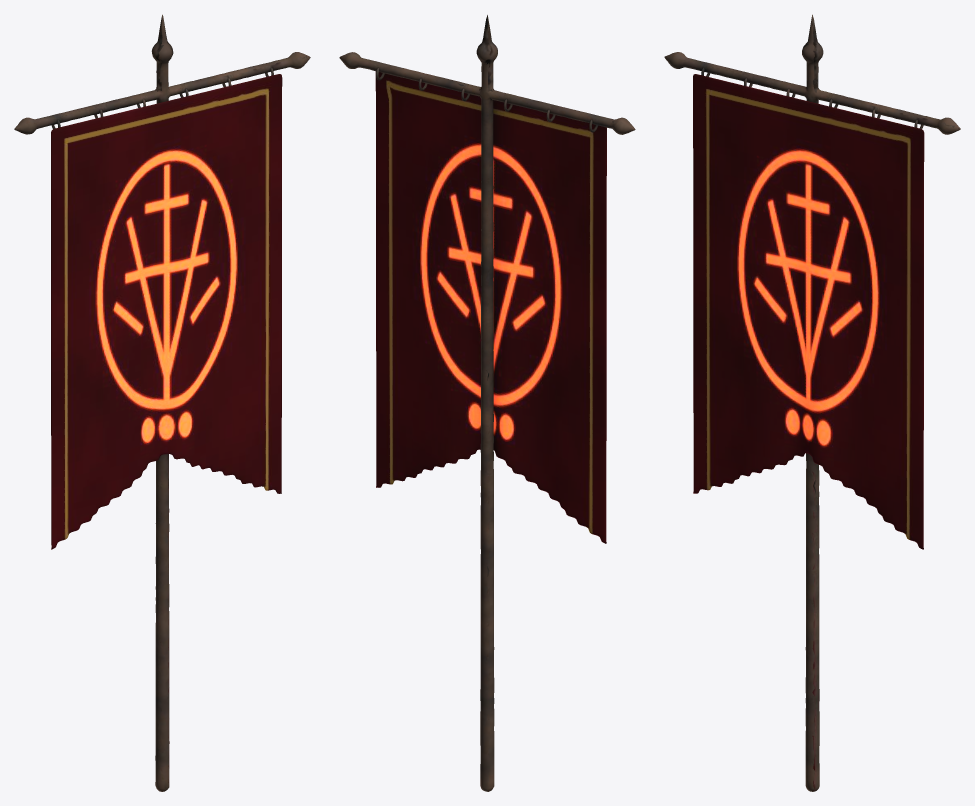
Rendered from sigil_banner.glb.
3 renders of one model, left to right at view 1: azimuth 30°, elevation 25°; view 2: azimuth 150°, elevation 25°; view 3: azimuth 330°, elevation 25°, orthographic.
Visible parts, largest first — view 1: Banner, Banner_Pole; view 2: Banner, Banner_Pole; view 3: Banner, Banner_Pole.
Boxes of the visible parts, box(x1,y1,x2,y2) form: Banner: box(51, 74, 282, 549); Banner_Pole: box(14, 14, 310, 791); Banner: box(375, 71, 606, 543); Banner_Pole: box(339, 15, 635, 791); Banner: box(693, 74, 924, 549); Banner_Pole: box(664, 14, 960, 791).
Size of the model in its own units: 1.28 by 3.2 by 0.087.
1 material, 1 textured.
